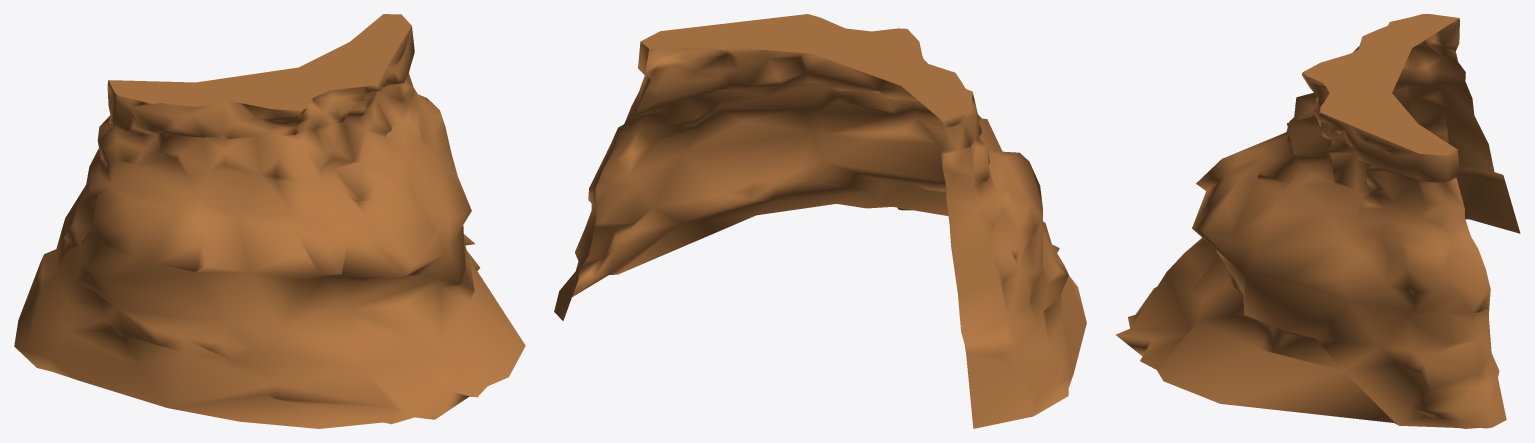
The model's file is Cliff_Wall02.FBX.
3 views of the same model, side by side, from view 1: azimuth 30°, elevation 25°; view 2: azimuth 150°, elevation 25°; view 3: azimuth 270°, elevation 25° (orthographic). The views are drawn at different scales.
Visible parts, largest first — view 1: Cliff_Wall02; view 2: Cliff_Wall02; view 3: Cliff_Wall02.
Boxes of the visible parts, x1,y1,x2,y2 form: Cliff_Wall02: (14,14,525,428); Cliff_Wall02: (554,14,1086,428); Cliff_Wall02: (1116,14,1520,428).
Size of the model in its own units: 3125 by 1678 by 2525.
